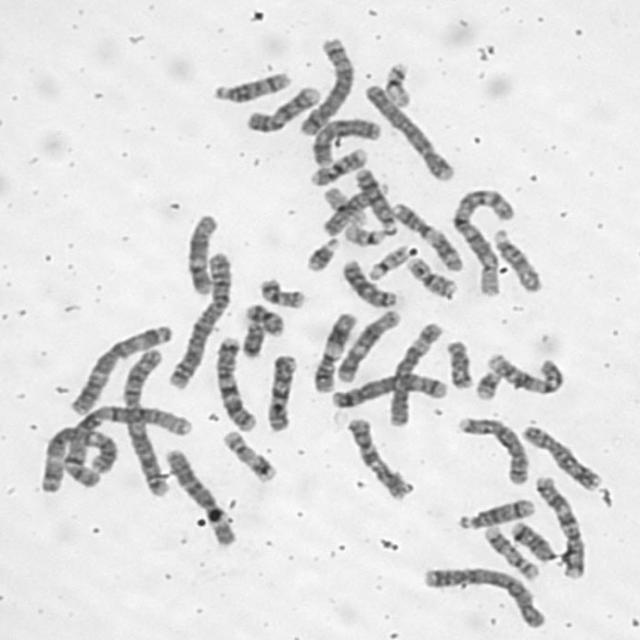A1: (61, 402, 194, 484), (450, 185, 516, 298)
A2: (164, 249, 236, 391), (120, 346, 172, 496)
A3: (66, 320, 173, 416), (34, 423, 121, 495)
B4: (361, 80, 456, 182), (427, 562, 546, 629)
B5: (296, 33, 356, 138), (326, 370, 450, 410)
C10: (342, 414, 412, 500), (264, 351, 300, 433)
C11: (388, 200, 464, 274), (310, 310, 358, 393)
C12: (334, 306, 402, 382), (183, 211, 220, 297)
C6: (162, 445, 236, 548), (385, 319, 444, 429)
C7: (533, 473, 587, 580), (212, 334, 259, 433)
C8: (518, 421, 603, 492), (454, 412, 530, 487)
C9: (243, 83, 322, 135), (488, 352, 568, 396)
D13: (351, 166, 398, 235), (338, 256, 398, 308)
D14: (210, 66, 293, 105), (455, 495, 537, 531)
D15: (318, 178, 392, 238), (489, 226, 543, 294)
E16: (402, 253, 460, 300), (305, 148, 371, 181)
E17: (481, 523, 540, 581), (221, 427, 278, 484)
E18: (508, 518, 558, 562), (442, 337, 474, 390)
F19: (323, 186, 368, 227), (380, 58, 413, 108)
F20: (256, 274, 309, 310), (241, 300, 287, 338)
G21: (304, 234, 341, 274), (473, 368, 504, 402)
G22: (365, 241, 411, 282), (342, 221, 392, 248)
X: (308, 116, 382, 168)
Y: (241, 324, 265, 357)
